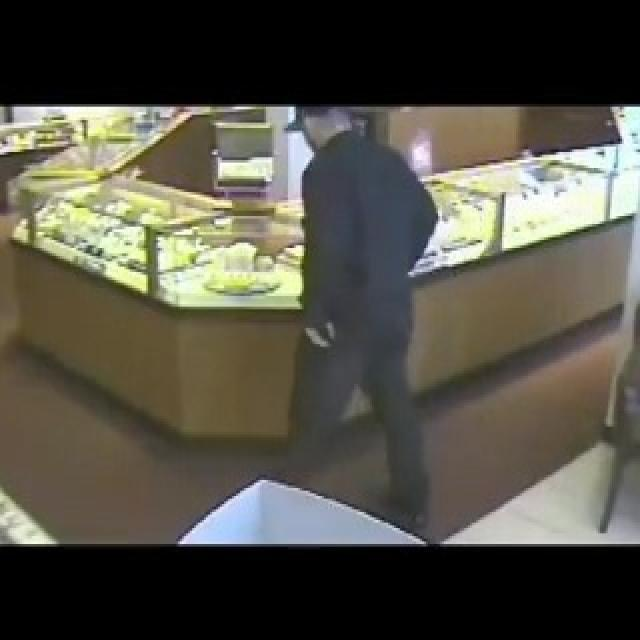normal: (274, 105, 473, 544)
